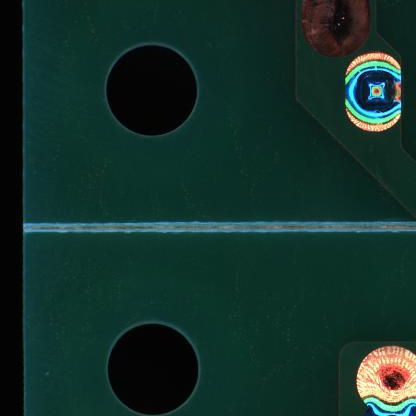spot: (344, 51, 402, 134)
